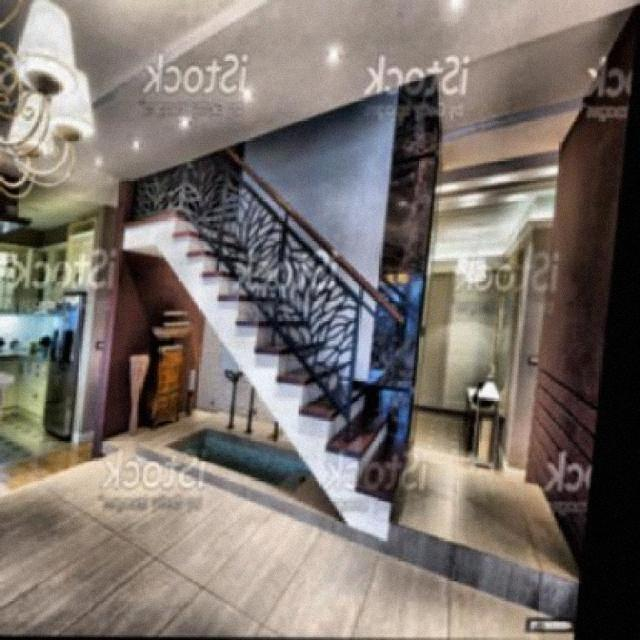stair: (111, 180, 429, 436)
